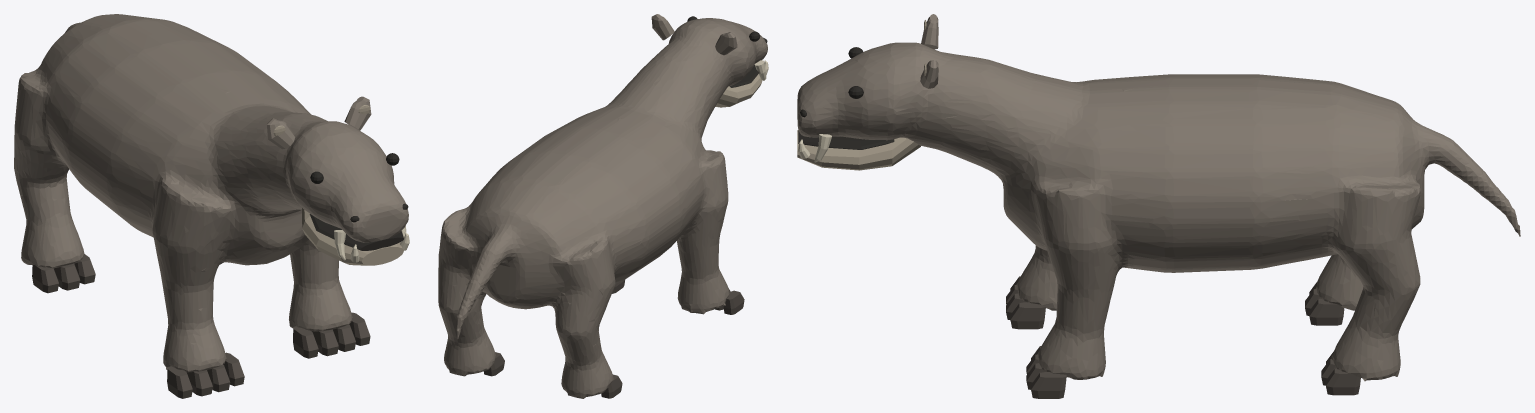
3 views of the same model, side by side, from view 1: azimuth 30°, elevation 25°; view 2: azimuth 150°, elevation 25°; view 3: azimuth 270°, elevation 25° (orthographic). The views are drawn at different scales.
Parts seen in each view (by area): view 1: Integrated_body_neck_head_limbs_tail, Lower jaw thick lip, Narrow mouth opening, Fore_L_weightbearing_toe_1, Fore_R_weightbearing_toe_1, Hind_L_weightbearing_toe_1, Small rounded ear L, Hind_L_weightbearing_toe_2, Small rounded ear R, Fore_R_weightbearing_toe_2, Fore_L_weightbearing_toe_2, Fore_L_weightbearing_toe_4 (+4 smaller); view 2: Integrated_body_neck_head_limbs_tail, Lower jaw thick lip, Fore_L_weightbearing_toe_1, Small rounded ear L, Small rounded ear R; view 3: Integrated_body_neck_head_limbs_tail, Lower jaw thick lip, Fore_L_weightbearing_toe_4, Fore_R_weightbearing_toe_4, Narrow mouth opening, Hind_L_weightbearing_toe_3, Hind_R_weightbearing_toe_3.
Boxes of the visible parts, x1,y1,x2,y2 form: Integrated_body_neck_head_limbs_tail: (14,14,408,372); Lower jaw thick lip: (302,208,403,265); Narrow mouth opening: (309,214,404,250); Fore_L_weightbearing_toe_1: (167,366,192,398); Fore_R_weightbearing_toe_1: (293,326,318,358); Hind_L_weightbearing_toe_1: (32,264,58,293); Small rounded ear L: (267,118,294,149); Hind_L_weightbearing_toe_2: (54,263,80,290); Small rounded ear R: (344,96,371,130); Fore_R_weightbearing_toe_2: (312,329,338,356); Fore_L_weightbearing_toe_2: (186,370,212,396); Fore_L_weightbearing_toe_4: (223,352,244,386); Integrated_body_neck_head_limbs_tail: (438,18,767,398); Lower jaw thick lip: (715,74,762,107); Fore_L_weightbearing_toe_1: (723,290,744,314); Small rounded ear L: (715,32,737,55); Small rounded ear R: (651,14,674,40); Integrated_body_neck_head_limbs_tail: (797,42,1520,381); Lower jaw thick lip: (797,130,920,170); Fore_L_weightbearing_toe_4: (1010,302,1045,329); Fore_R_weightbearing_toe_4: (1031,372,1066,398); Narrow mouth opening: (798,130,894,149); Hind_L_weightbearing_toe_3: (1309,298,1344,325); Hind_R_weightbearing_toe_3: (1326,368,1360,395).
Size of the model in its own units: 1.19 by 1.66 by 3.51.
